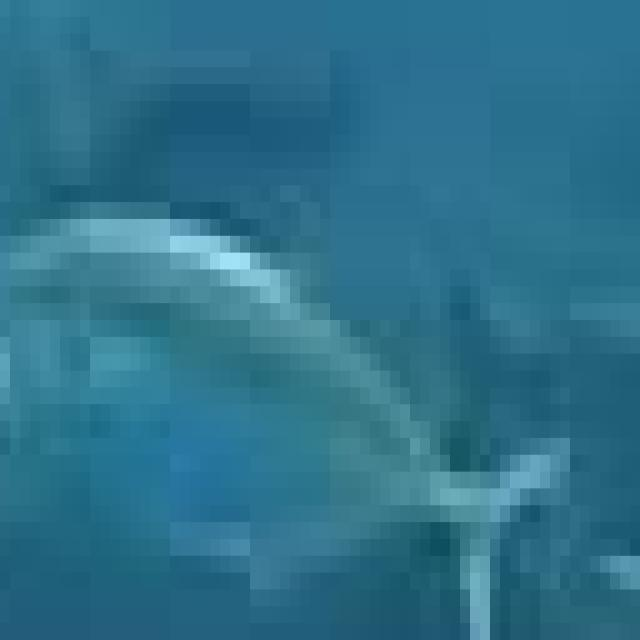fish: (0, 17, 630, 640)
